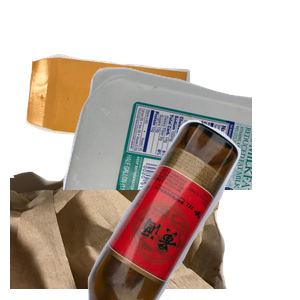glass: (85, 120, 300, 300)
paper: (23, 51, 206, 189)
plastic: (60, 65, 300, 245)
trash: (10, 120, 229, 300)
